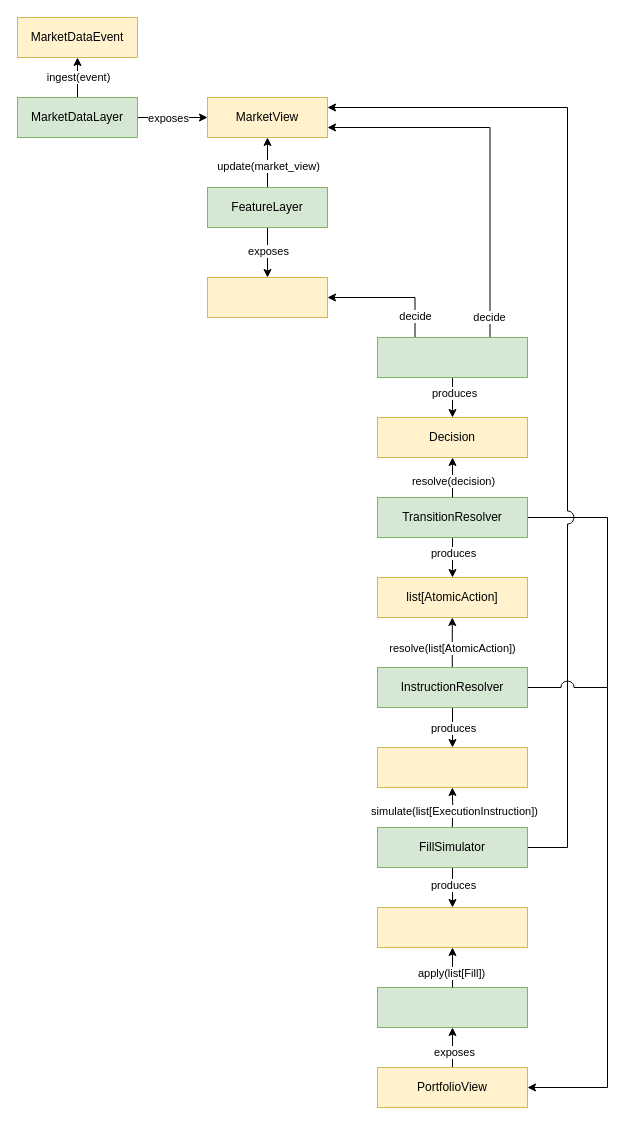
Image size: 633x1125. Some labels were removed from this diagram. Here are the shapes that lost their labels. From the top down, the centre of each, then its label:
At point 267,297: "FeatureView".
At point 452,357: "DecisionLayer".
At point 452,767: "list[ExecutionInstruction]".
At point 452,927: "list[Fill]".
At point 452,1007: "Portfolio".
